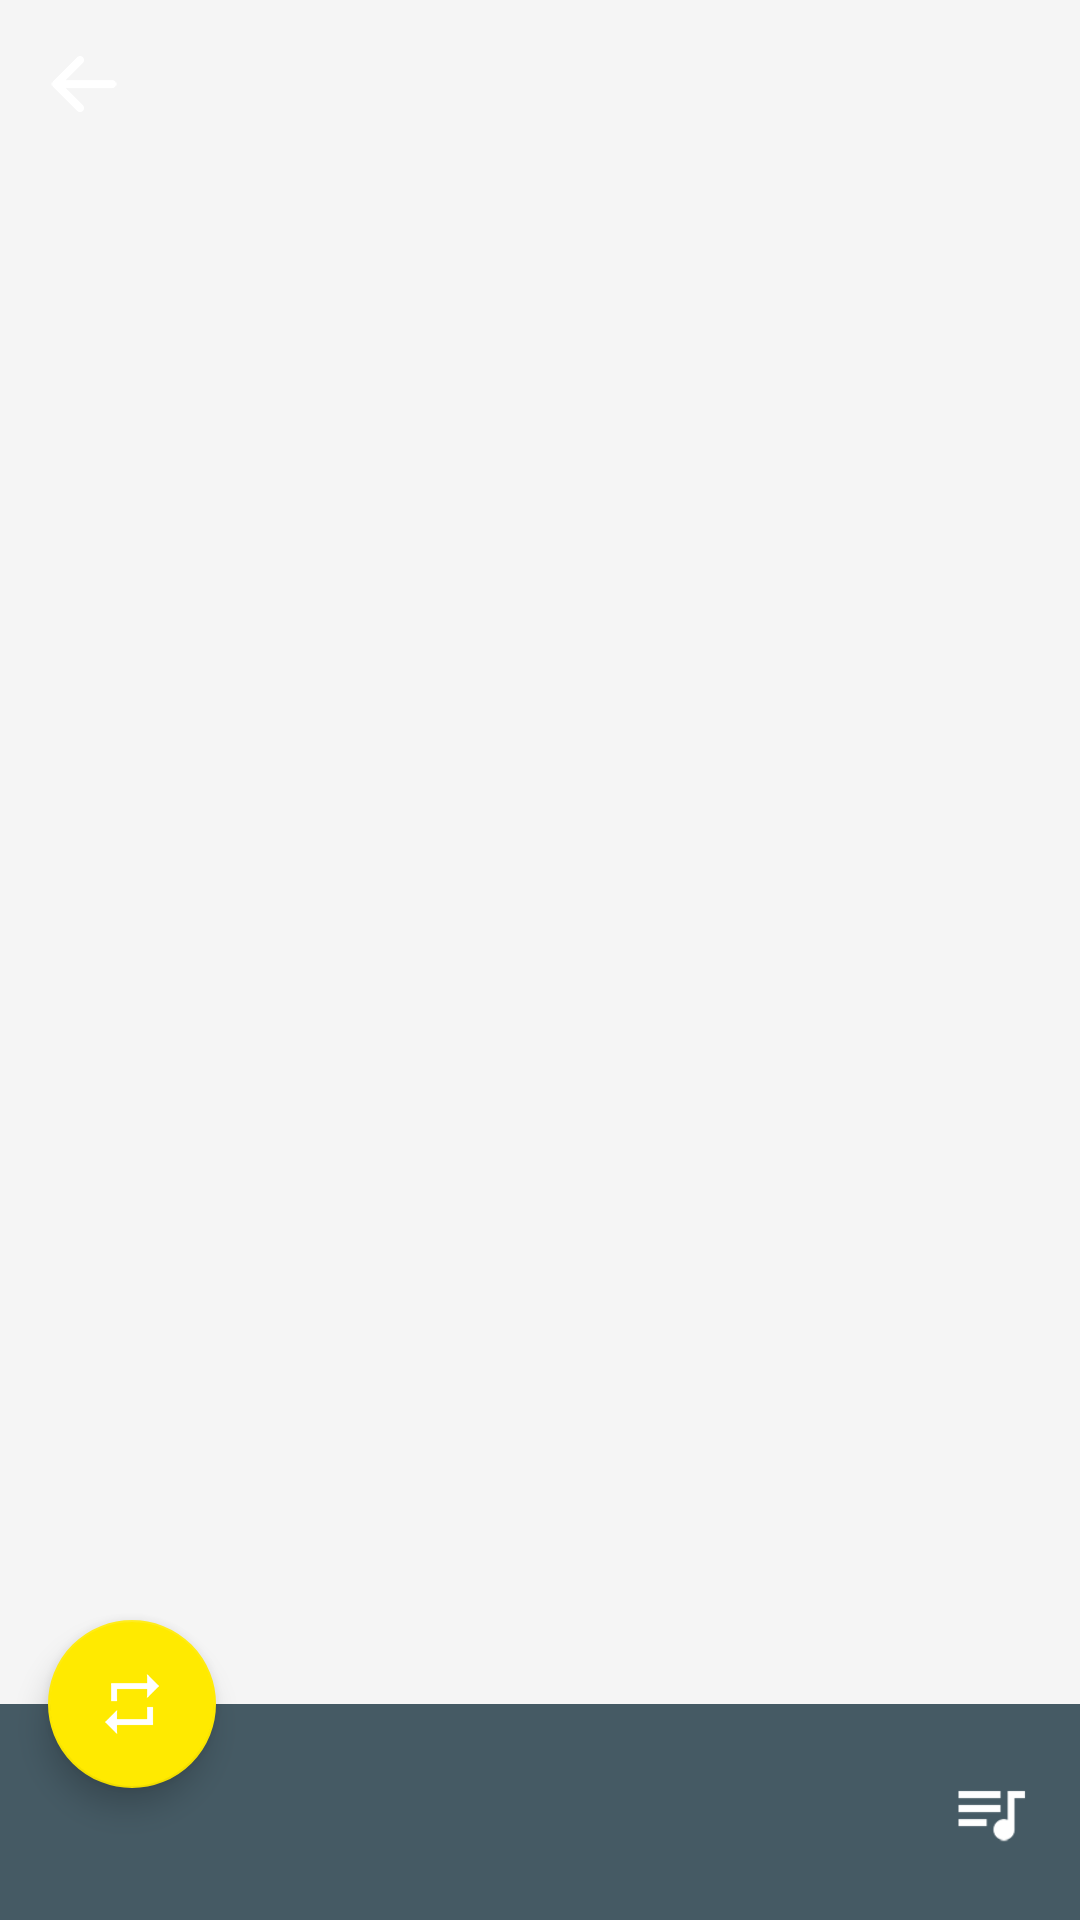

Screen size 1080w x 1920h. Icon name, then its center in pixels as point (x, y):
music player repeat: point (132, 1704)
queue music: point (991, 1816)
